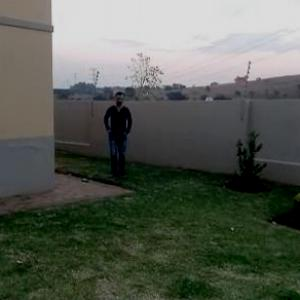follow: (102, 89, 134, 184)
